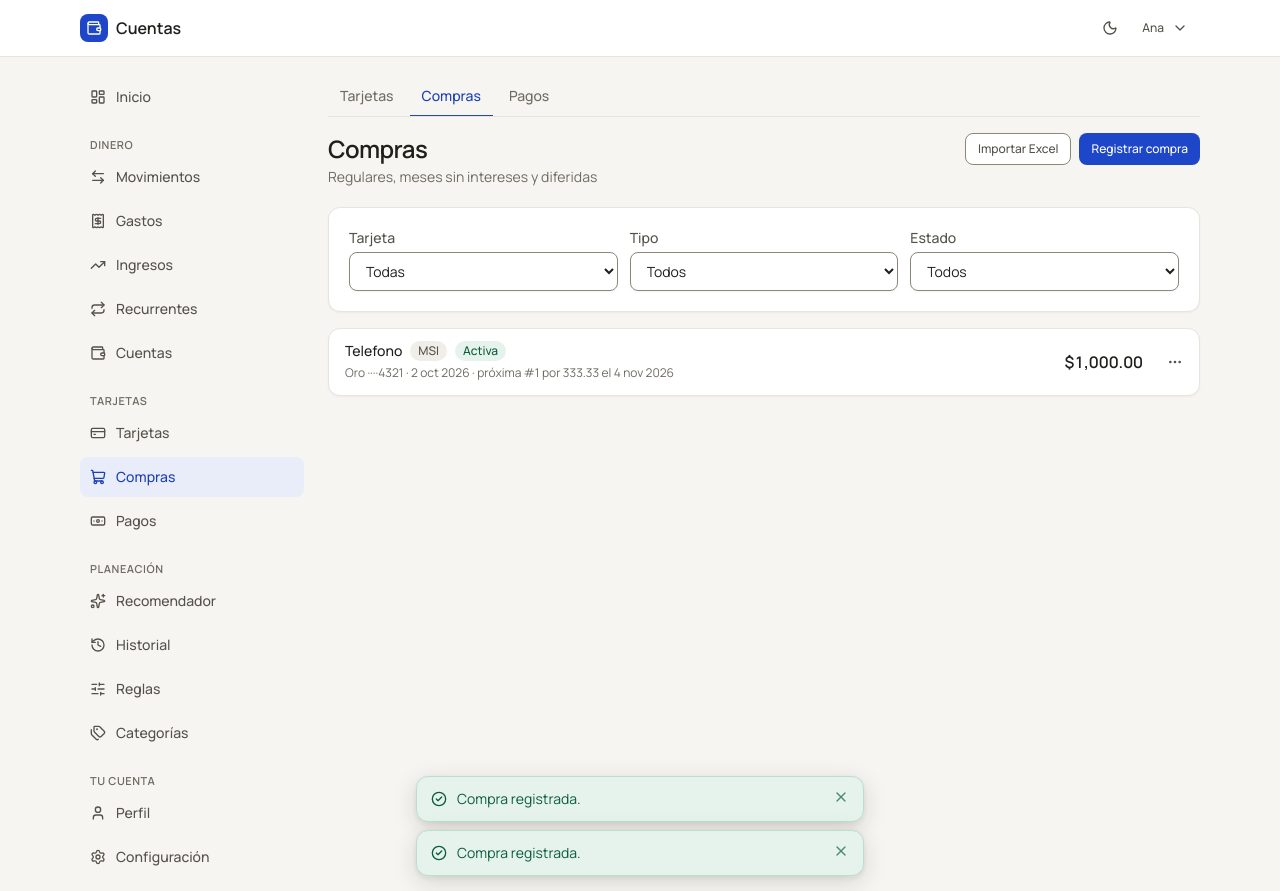
Test: compras › cancela una compra con motivo
Click the button named "Más acciones de Telefono": (1175, 362) x1=1159 y1=346 x2=1191 y2=378
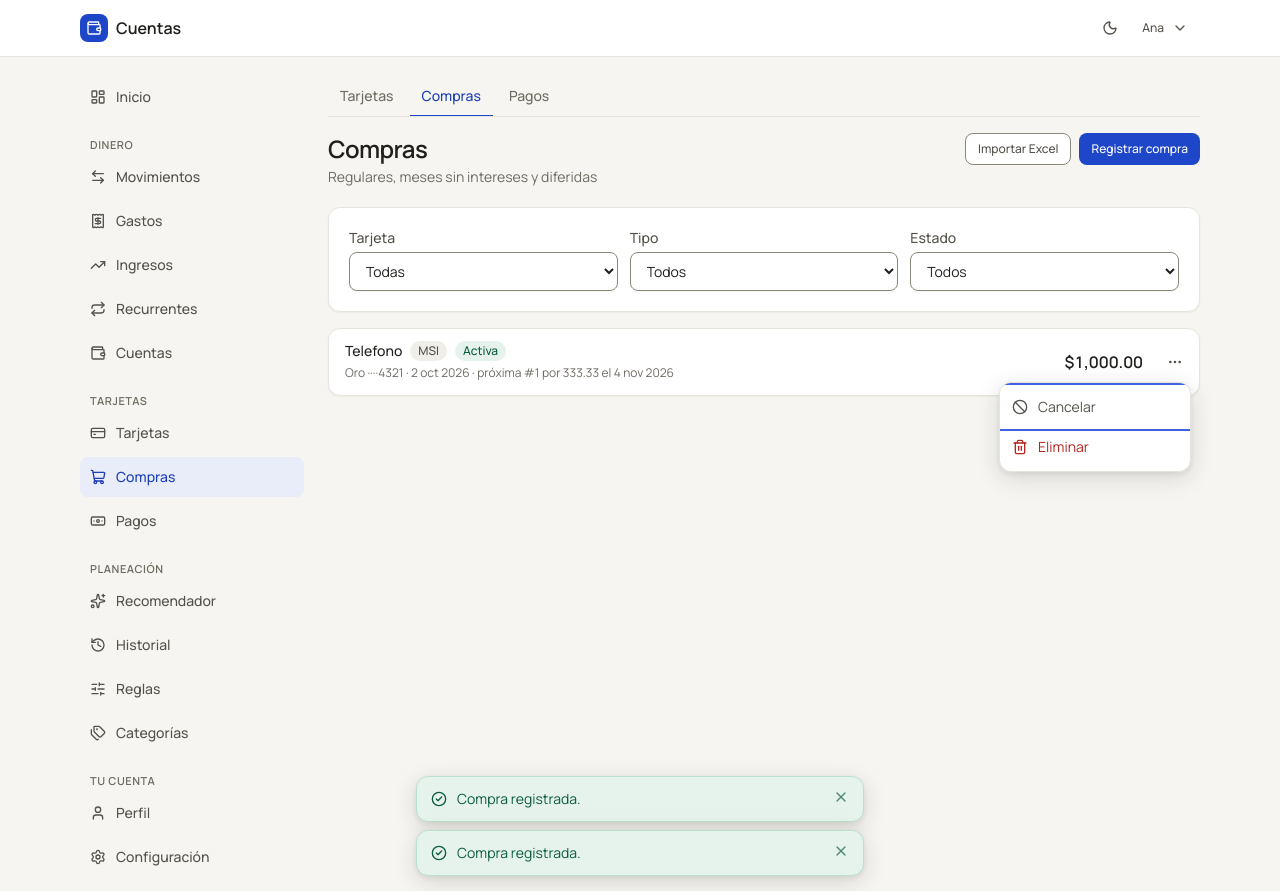
Click the menu item "Cancelar": (1095, 407) x1=1000 y1=387 x2=1190 y2=427
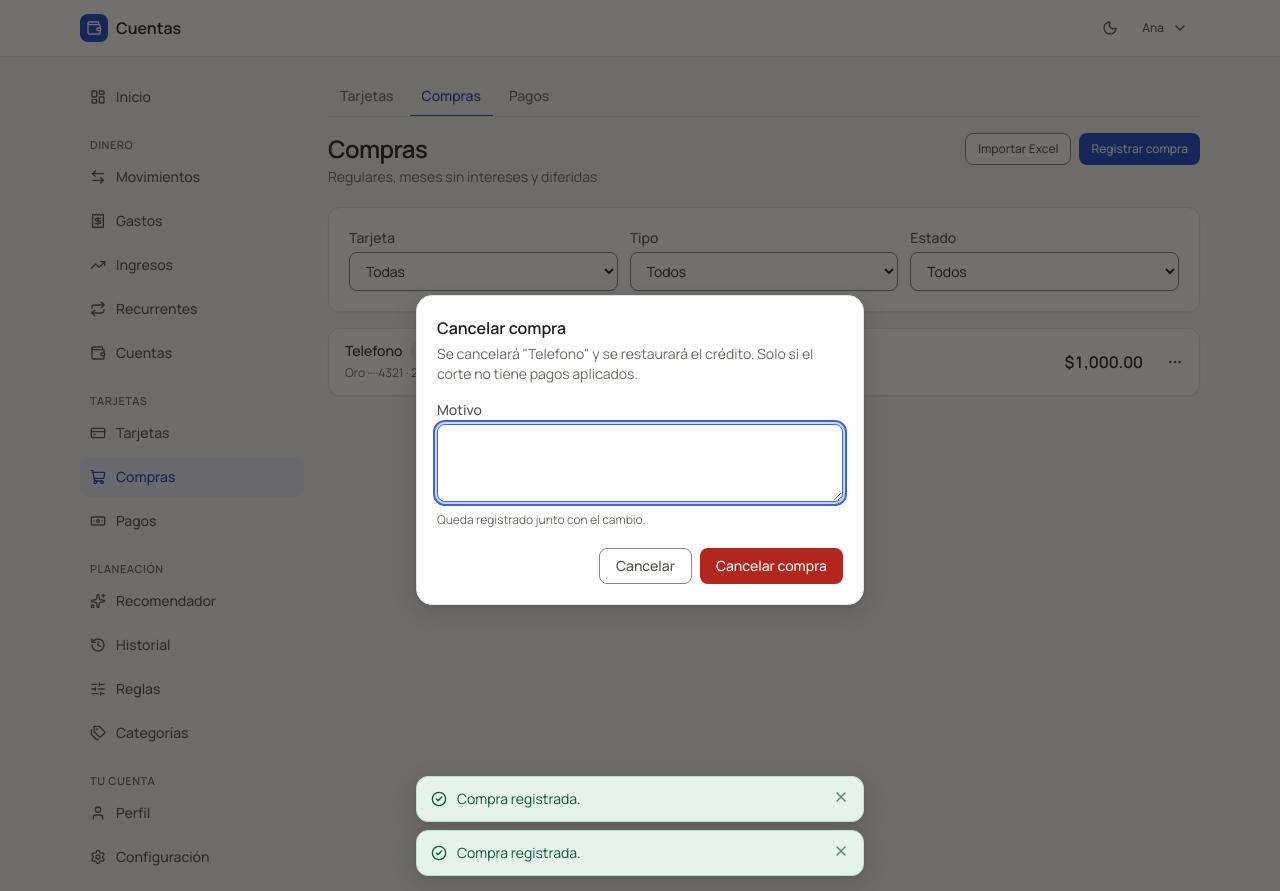
In the text box labelled "Motivo": (640, 463) x1=437 y1=424 x2=843 y2=502, type "Devolucion completa"
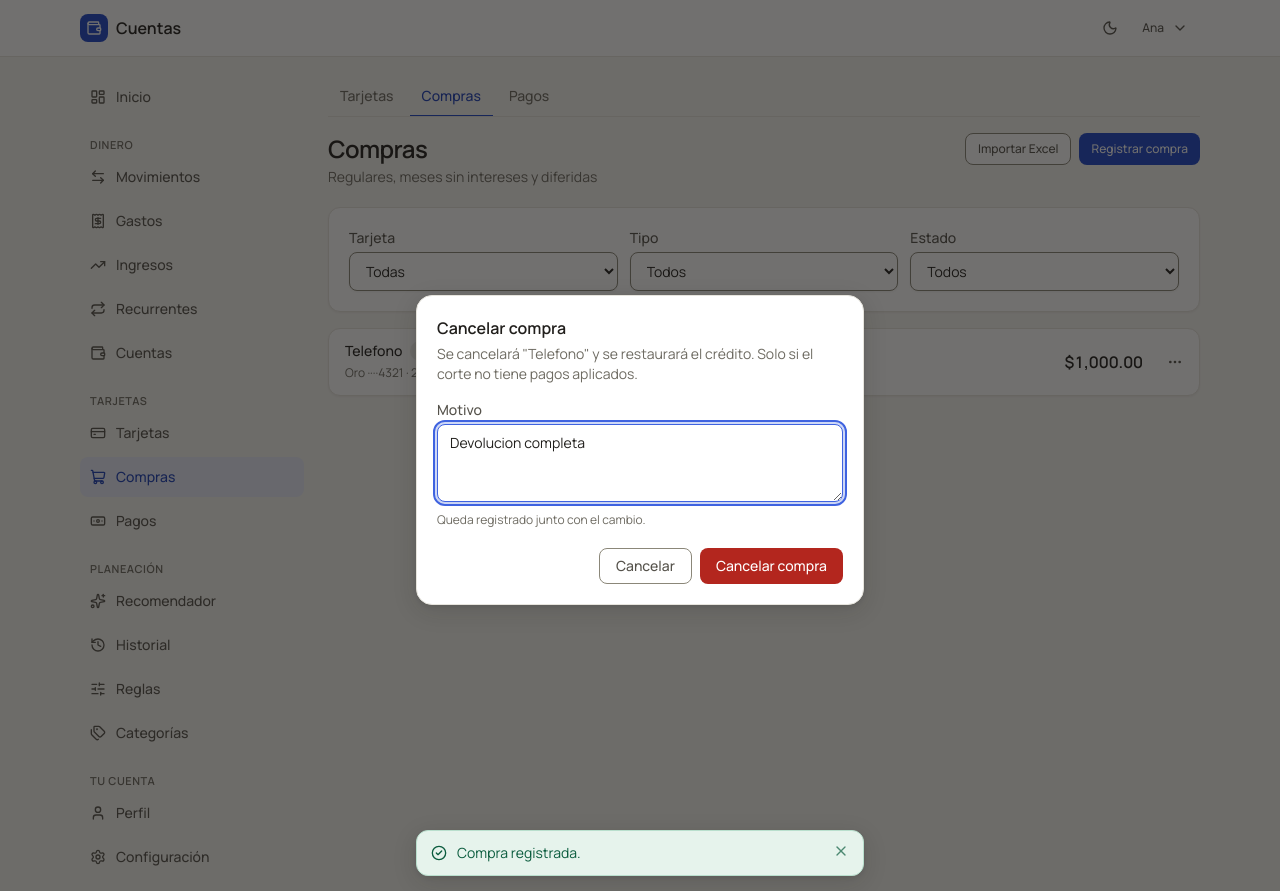
Click the button "Cancelar compra": (771, 566) x1=700 y1=548 x2=843 y2=584
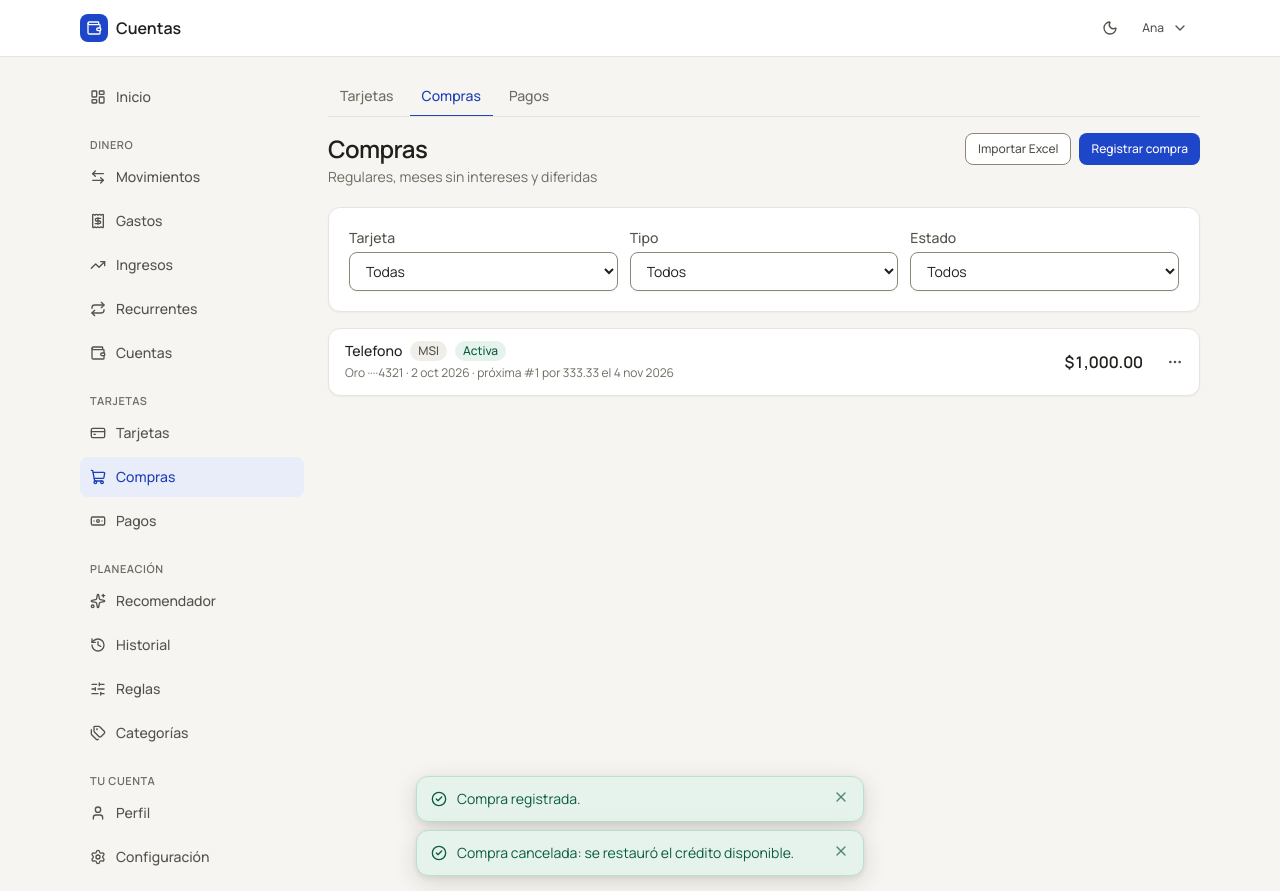
Check: the text "Compra cancelada: se restauró el crédito disponible." is shown, box x1=457 y1=843 x2=823 y2=863
